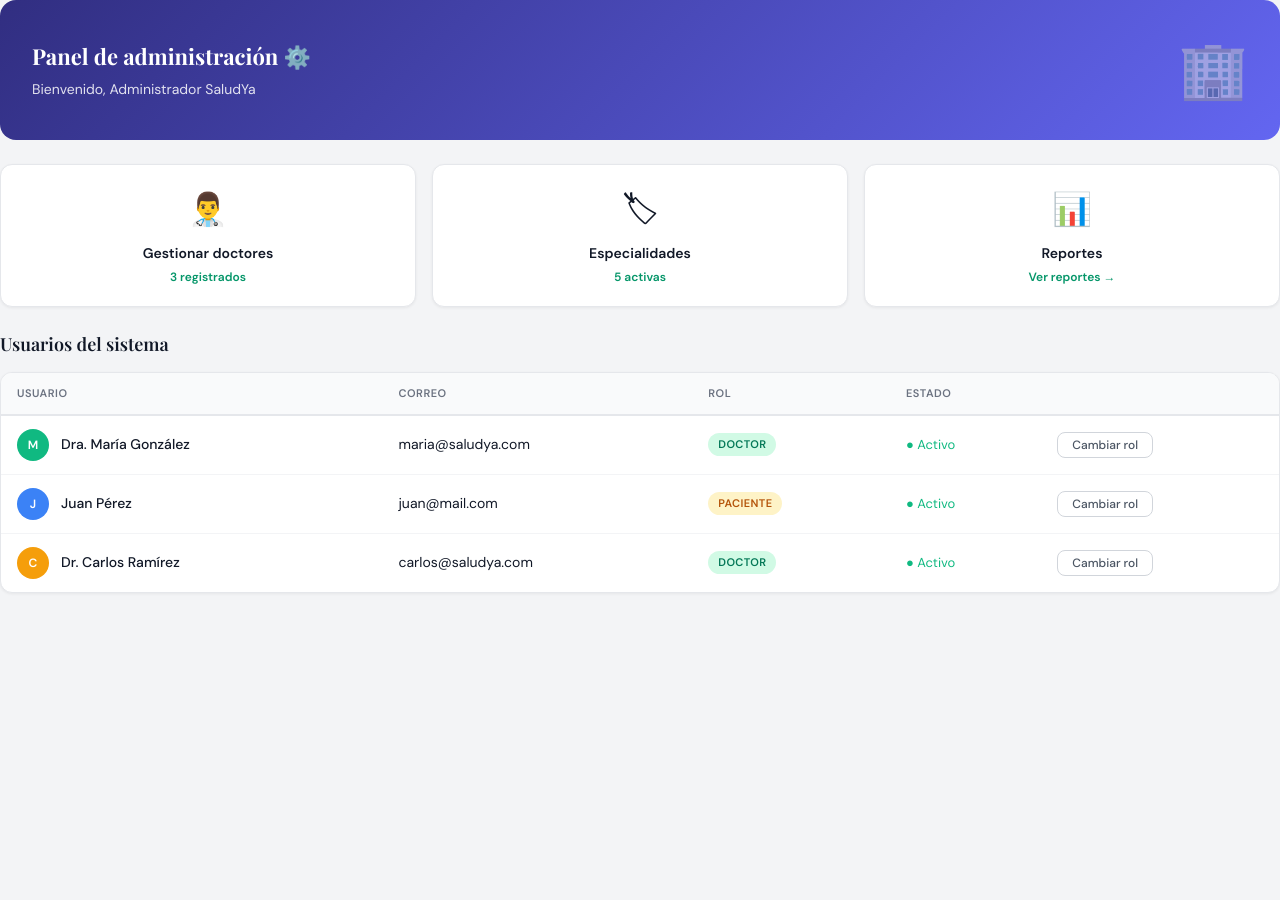
Test: <DashboardAdmin /> › al hacer clic en "Cambiar rol", se abre el modal
Click the button "Cambiar rol" in the row of "Dra. María González" at (1105, 444), box [1057, 432, 1153, 458]
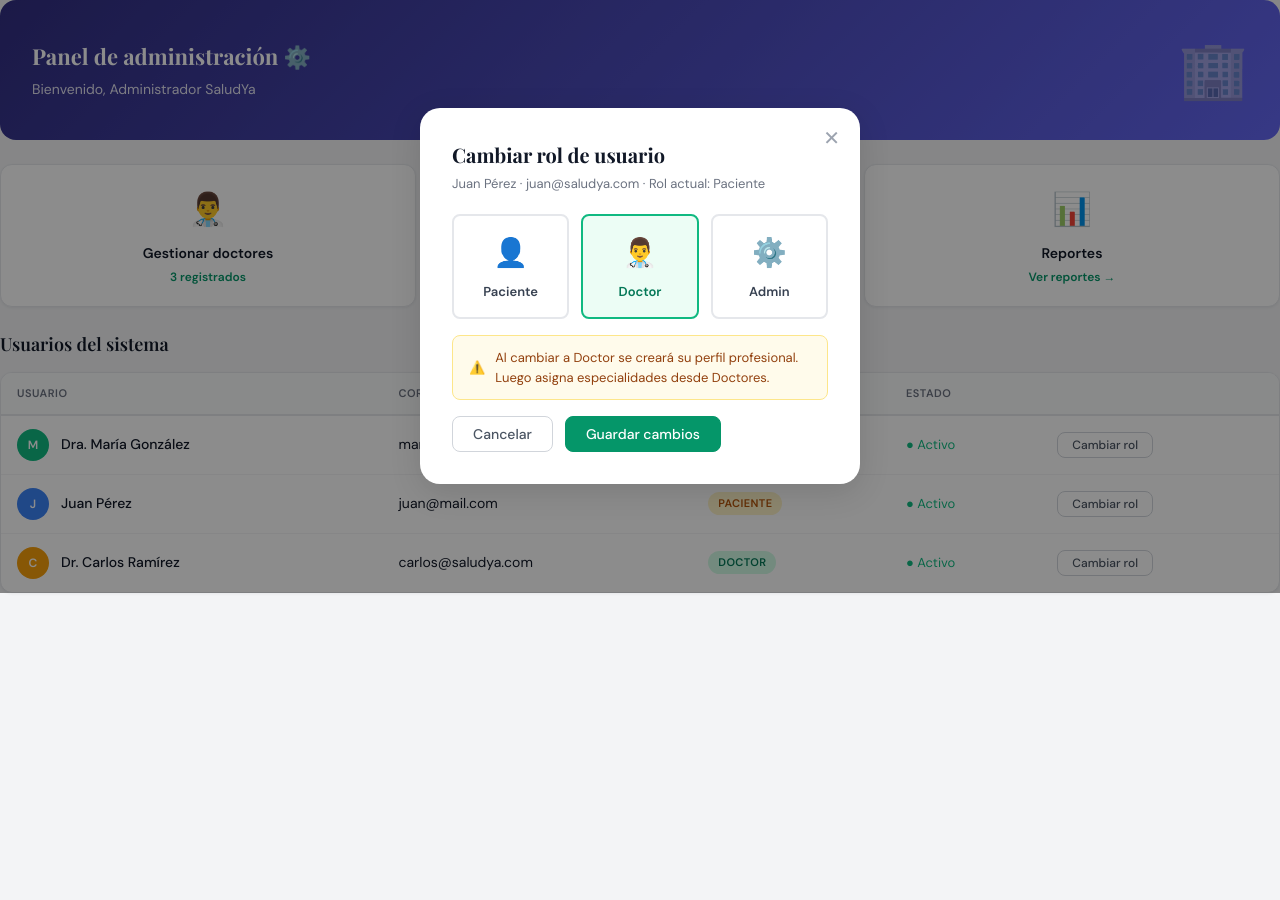
Now the heading "Cambiar rol de usuario" is shown, box [452, 141, 665, 168]
Now the text "Al cambiar a Doctor" is shown, box [495, 349, 798, 386]
